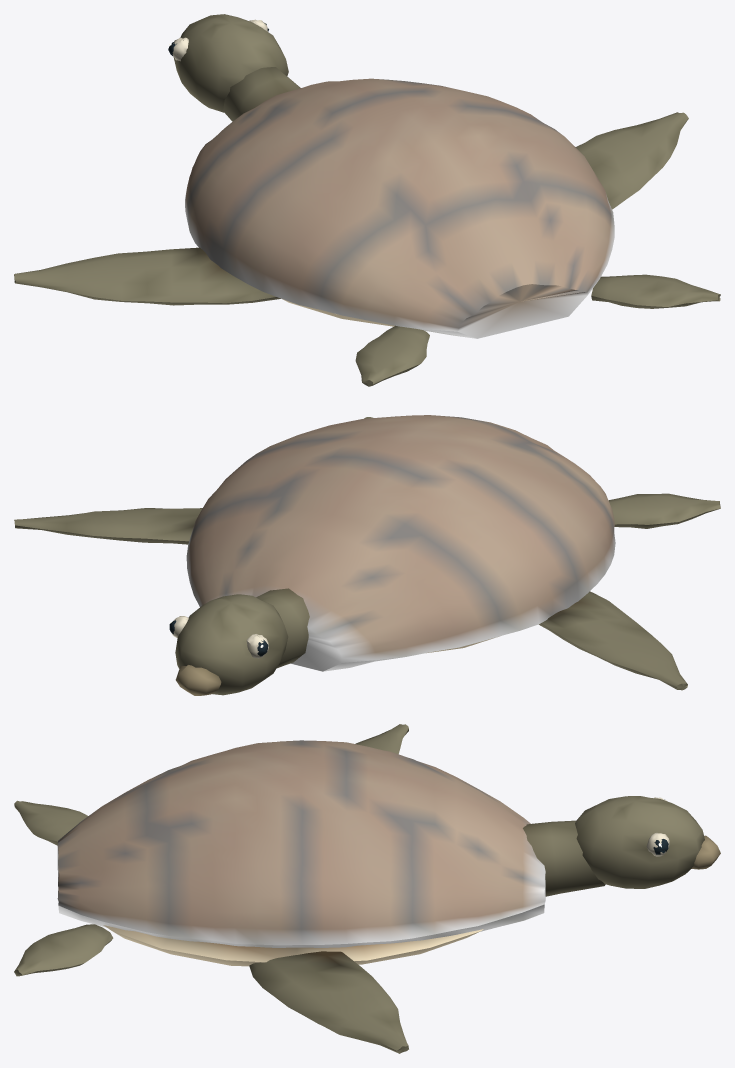
File: turtle.glb
3 renders of one model, top to bottom at view 1: azimuth 30°, elevation 25°; view 2: azimuth 150°, elevation 25°; view 3: azimuth 270°, elevation 25°, orthographic.
Parts seen in each view (by area): view 1: turtle; view 2: turtle; view 3: turtle.
Part boxes in pixels (x1,y1,x2,y2): turtle: (14, 14, 720, 386); turtle: (14, 415, 720, 695); turtle: (14, 724, 720, 1053).
Size of the model in its own units: 1.36 by 0.2827 by 1.25.
